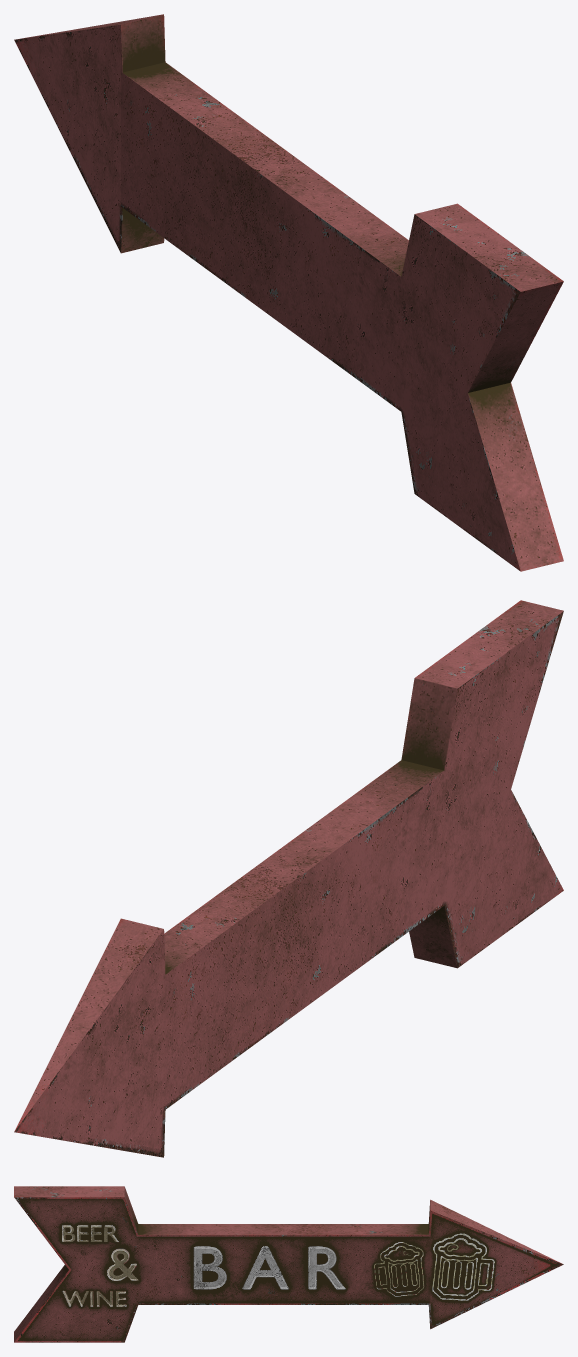
The model's file is Arrow_Bar.fbx.
3 renders of one model, top to bottom at view 1: azimuth 30°, elevation 25°; view 2: azimuth 150°, elevation 25°; view 3: azimuth 270°, elevation 25°, orthographic. The views are drawn at different scales.
Visible parts, largest first — view 1: Cube.005; view 2: Cube.005; view 3: Cube.005.
Boxes of the visible parts, x1=… form: Cube.005: x1=14, y1=14, x2=563, y2=571; Cube.005: x1=14, y1=600, x2=563, y2=1157; Cube.005: x1=14, y1=1186, x2=563, y2=1342.
Bounding box in the file's own units: 14.95 × 92.61 × 317.
